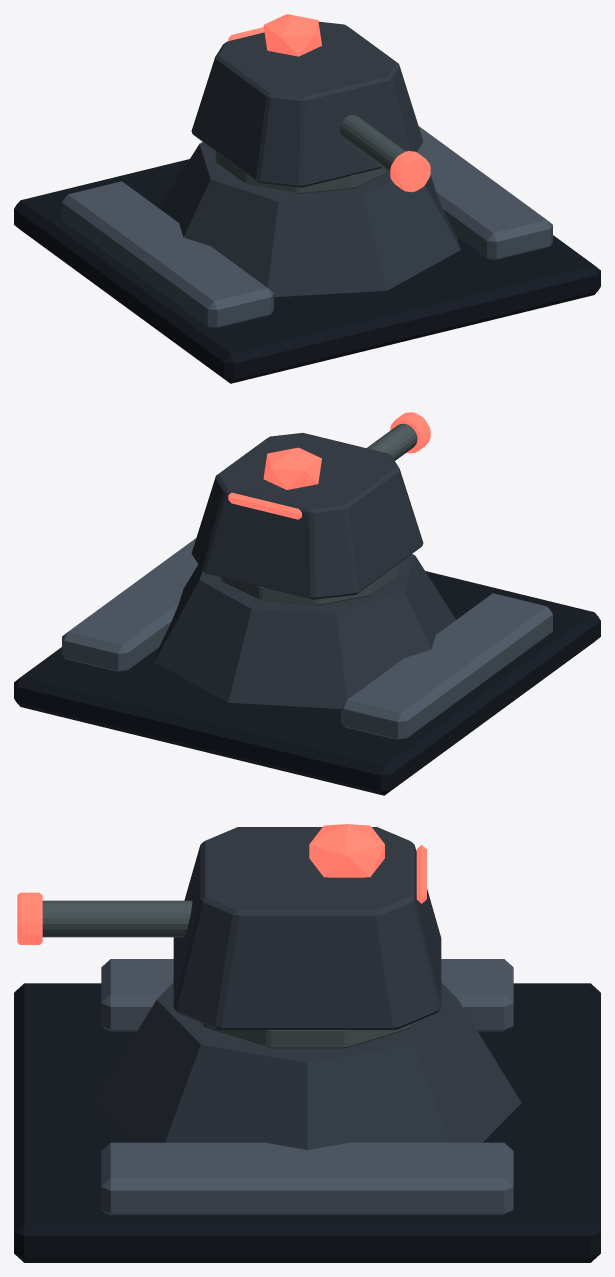
The model's file is m_turret.glb.
The picture shows the model from 3 angles, top to bottom: view 1: azimuth 30°, elevation 25°; view 2: azimuth 150°, elevation 25°; view 3: azimuth 270°, elevation 25°; orthographic projection. The views are drawn at different scales.
Parts seen in each view (by area): view 1: Base, Head, Guns; view 2: Base, Head, Guns; view 3: Base, Head, Guns.
Boxes of the visible parts, bbox=[...] form: Base: bbox=[14, 126, 600, 383]; Head: bbox=[191, 14, 423, 187]; Guns: bbox=[340, 115, 430, 192]; Base: bbox=[14, 538, 600, 795]; Head: bbox=[191, 433, 423, 599]; Guns: bbox=[366, 412, 430, 460]; Base: bbox=[14, 959, 600, 1262]; Head: bbox=[173, 824, 441, 1029]; Guns: bbox=[17, 892, 192, 944].
Size of the model in its own units: 3.7 by 2.22 by 3.7.
